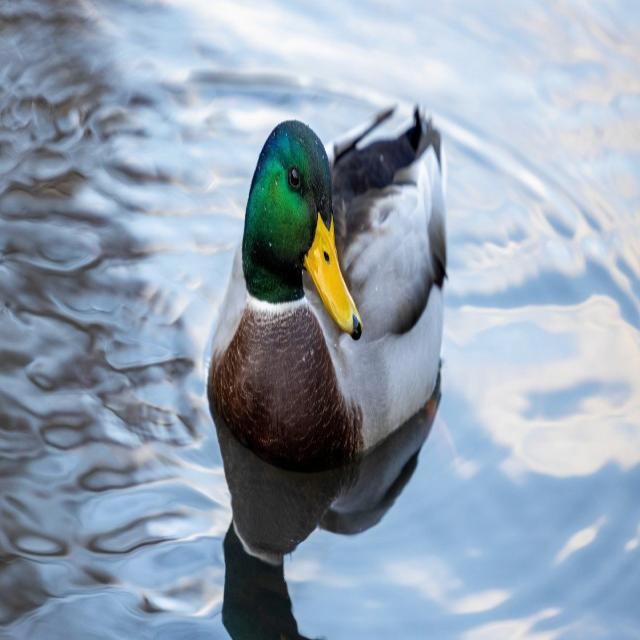duck: (209, 105, 447, 470)
